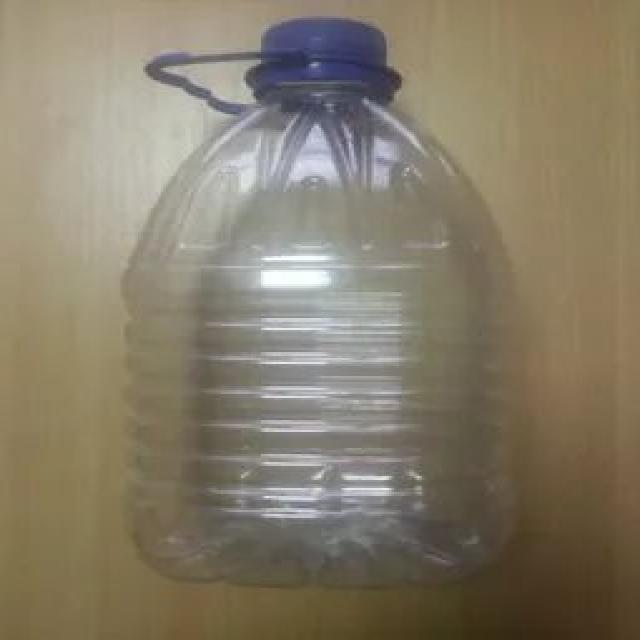blue: (121, 84, 519, 588)
